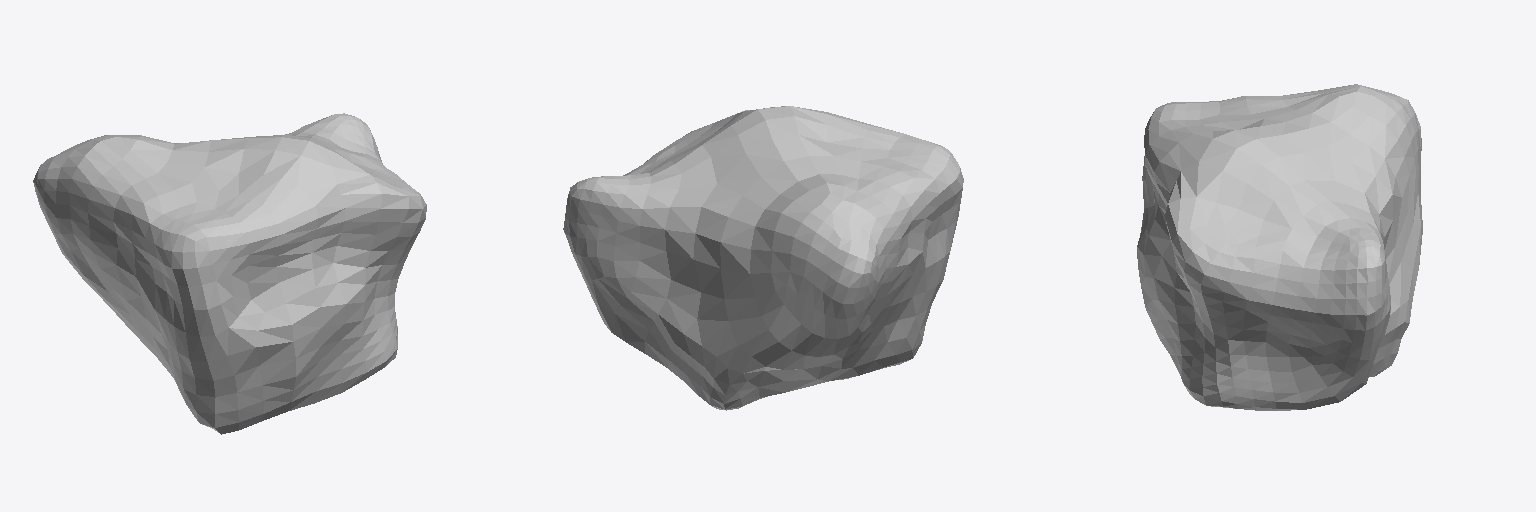
Rendered from asteroide10.obj.
The picture shows the model from 3 angles: view 1: azimuth 30°, elevation 25°; view 2: azimuth 150°, elevation 25°; view 3: azimuth 270°, elevation 25°; orthographic projection.
Visible parts, largest first — view 1: Asteroid_no_10; view 2: Asteroid_no_10; view 3: Asteroid_no_10.
Part boxes in pixels (x1,y1,x2,y2): Asteroid_no_10: (33, 113, 426, 434); Asteroid_no_10: (563, 106, 963, 410); Asteroid_no_10: (1137, 84, 1422, 410).
Bounding box in the file's own units: 4.46 × 3.28 × 3.43.